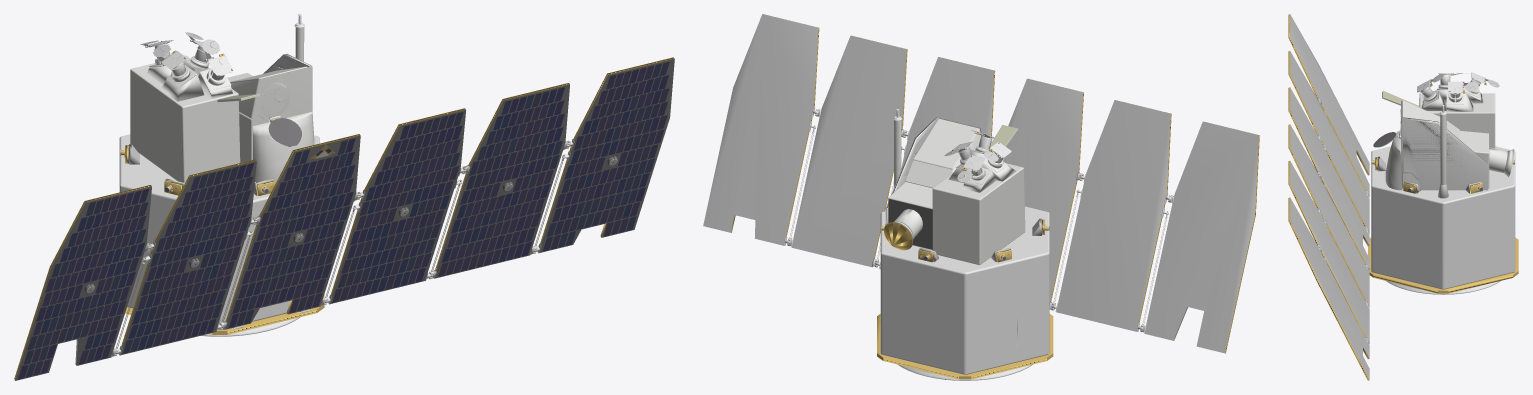
The model's file is Aeronomy of Ice in the Mesosphere.glb.
The picture shows the model from 3 angles, left to right: view 1: azimuth 30°, elevation 25°; view 2: azimuth 150°, elevation 25°; view 3: azimuth 270°, elevation 25°; orthographic projection. The views are drawn at different scales.
Parts seen in each view (by area): view 1: Fake; view 2: Fake; view 3: Fake.
Boxes of the visible parts, bbox=[...] form: Fake: bbox=[14, 14, 674, 380]; Fake: bbox=[703, 14, 1259, 380]; Fake: bbox=[1288, 14, 1518, 380].
Size of the model in its own units: 41.4 by 17.21 by 18.54.
